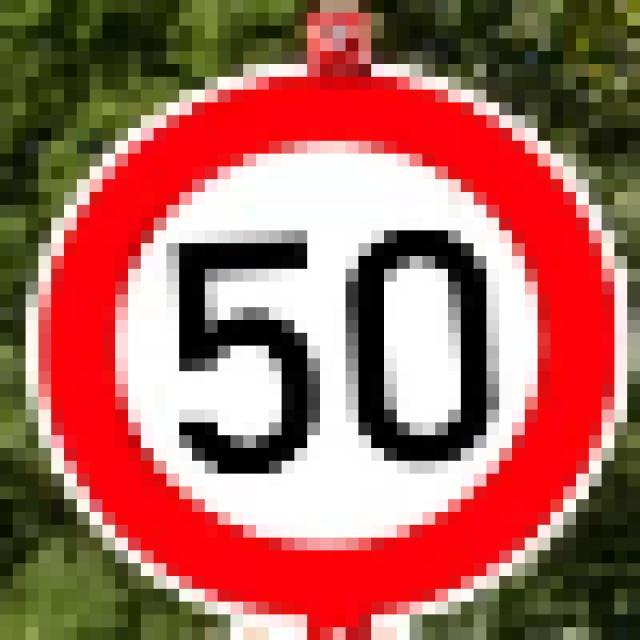Limite-50: (25, 59, 620, 630)
